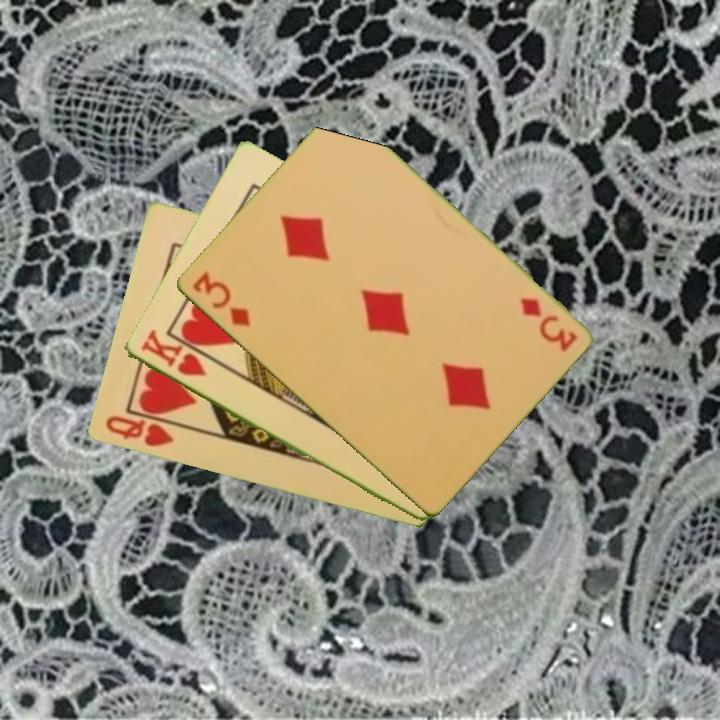3d: (187, 268, 253, 331), (516, 293, 580, 355)
Kh: (136, 326, 209, 380)
Qh: (101, 409, 184, 450)
